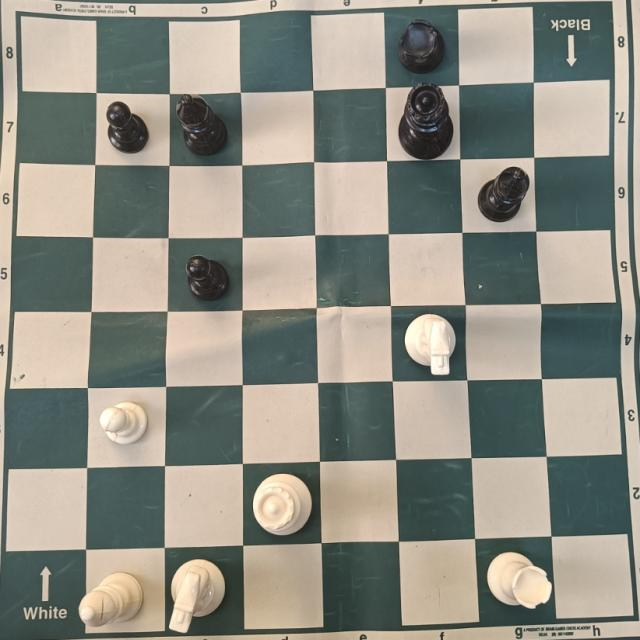black-bishop: (172, 94, 233, 157), (476, 166, 531, 224)
black-pawn: (102, 101, 151, 156), (179, 256, 232, 304)
black-queen: (388, 85, 459, 160)
black-rook: (391, 18, 453, 76)
white-bishop: (79, 564, 145, 629)
white-knight: (169, 559, 230, 632), (398, 313, 458, 377)
white-pawn: (93, 401, 151, 448)
white-queen: (252, 473, 314, 536)
white-rook: (484, 550, 554, 612)
